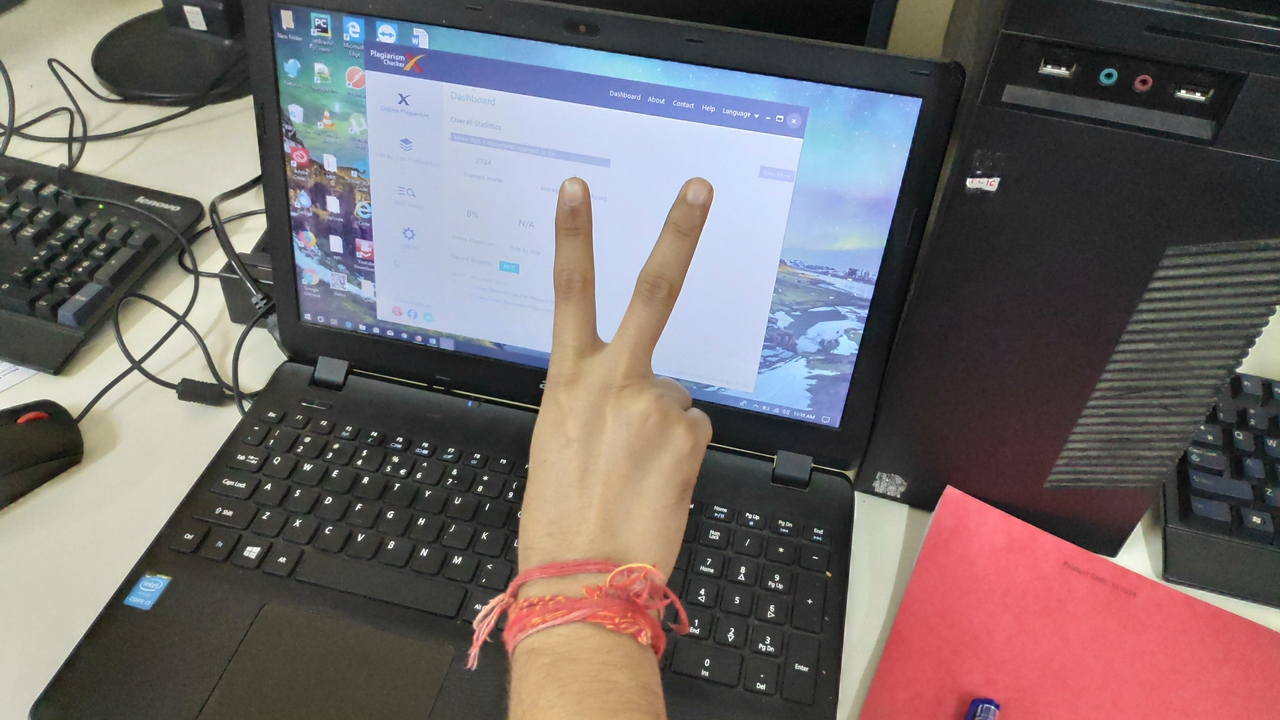fingertip: (658, 166, 720, 220), (544, 166, 596, 216)
